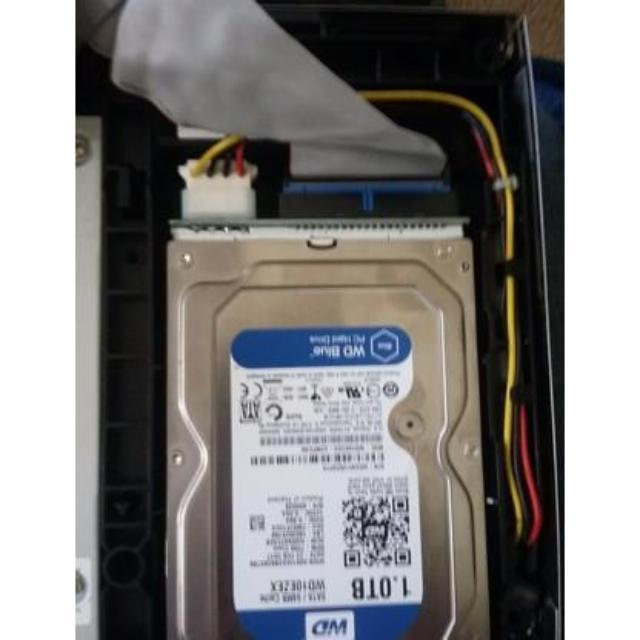DISK: (157, 234, 495, 640)
